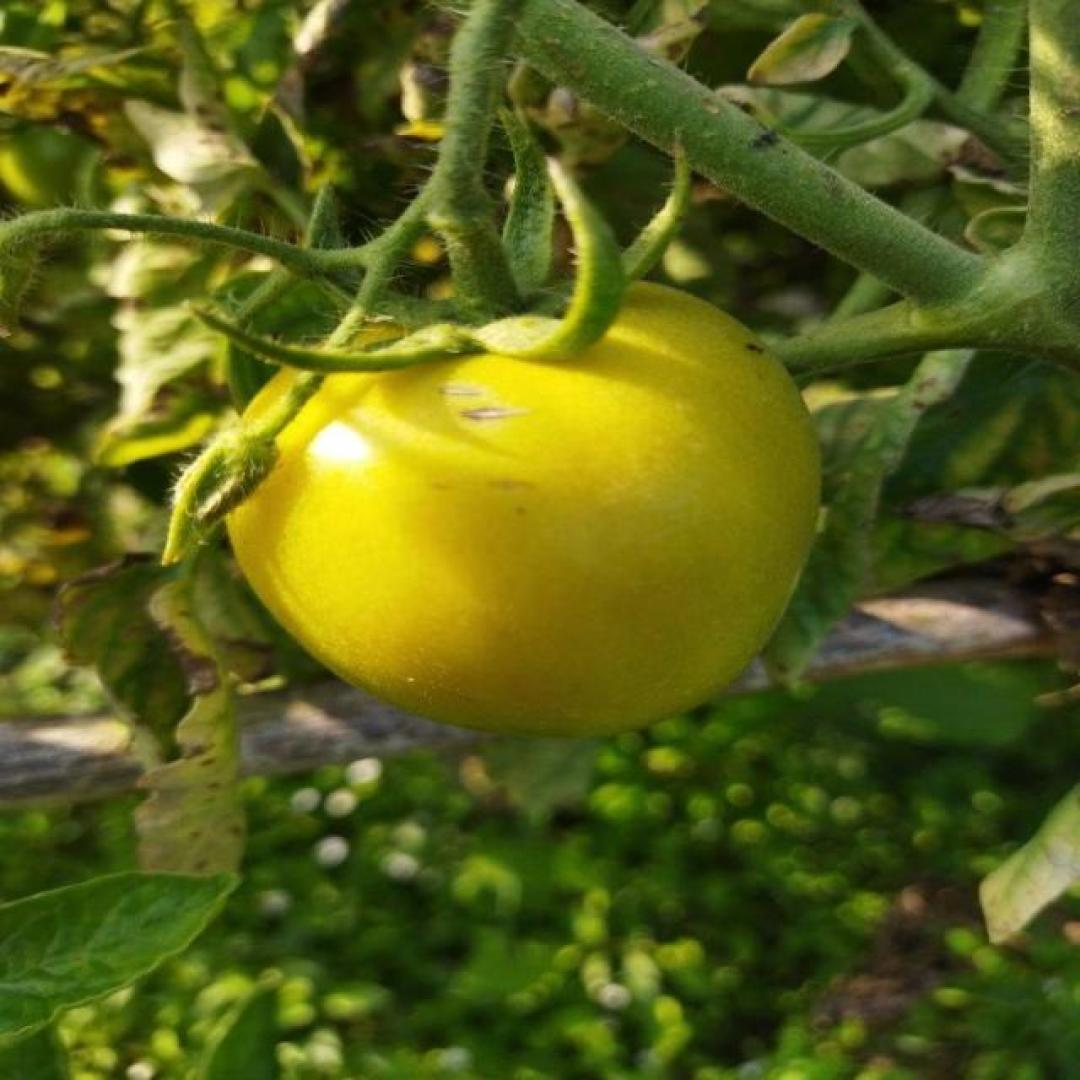setengah_matang: (216, 272, 825, 739)
